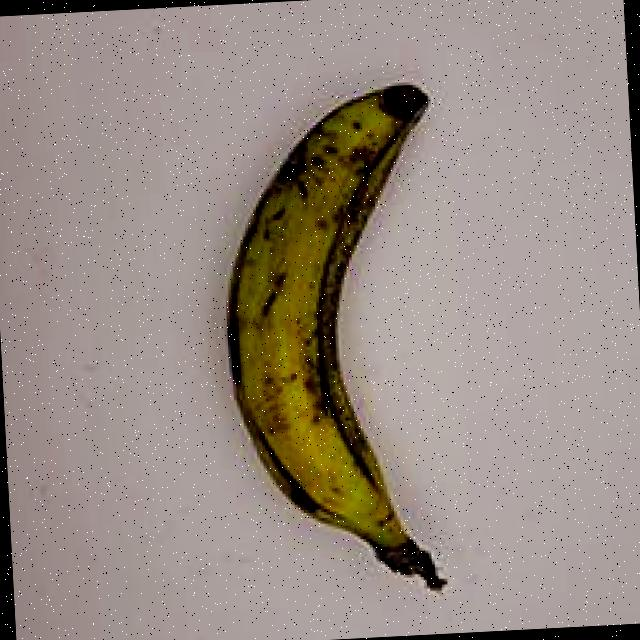Overripe: (172, 36, 509, 606)
